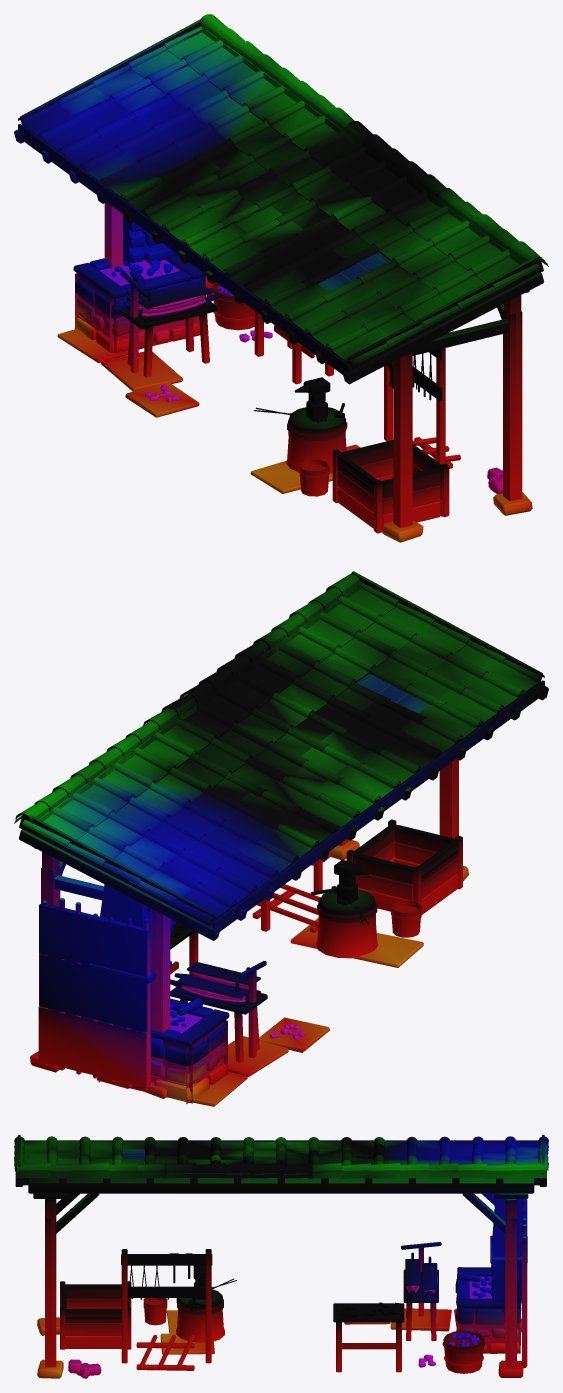
File: valdora_forge.glb
The picture shows the model from 3 angles, top to bottom: view 1: azimuth 30°, elevation 25°; view 2: azimuth 150°, elevation 25°; view 3: azimuth 270°, elevation 25°; orthographic projection. The views are drawn at different scales.
Parts seen in each view (by area): view 1: valdora_forge_shell, Fixture_Hearth, Fixture_QuenchTrough, valdora_forge_far, Fixture_Bellows, Fixture_Anvil, Fixture_Stock, Fixture_ToolRack, Fixture_Workbench, valdora_forge_detail; view 2: valdora_forge_shell, Fixture_Hearth, Fixture_QuenchTrough, Fixture_Anvil, Fixture_Bellows, valdora_forge_far, Fixture_Stock, valdora_forge_detail, Fixture_Workbench; view 3: valdora_forge_shell, Fixture_Hearth, Fixture_QuenchTrough, Fixture_Stock, Fixture_ToolRack, valdora_forge_far, Fixture_Workbench, Fixture_Bellows, Fixture_Anvil, valdora_forge_detail.
Part boxes in pixels (x1,y1,x2,y2): valdora_forge_shell: [14, 14, 548, 542]; Fixture_Hearth: [73, 214, 206, 353]; Fixture_QuenchTrough: [332, 440, 449, 533]; valdora_forge_far: [104, 203, 522, 527]; Fixture_Bellows: [119, 271, 220, 377]; Fixture_Anvil: [286, 377, 347, 473]; Fixture_Stock: [211, 282, 502, 496]; Fixture_ToolRack: [384, 348, 445, 464]; Fixture_Workbench: [254, 311, 333, 384]; valdora_forge_detail: [145, 384, 373, 519]; valdora_forge_shell: [14, 571, 548, 1106]; Fixture_Hearth: [88, 884, 229, 1103]; Fixture_QuenchTrough: [346, 819, 462, 917]; Fixture_Anvil: [310, 859, 378, 958]; Fixture_Bellows: [170, 961, 267, 1062]; valdora_forge_far: [41, 675, 458, 1082]; Fixture_Stock: [252, 850, 421, 937]; valdora_forge_detail: [170, 849, 458, 1039]; Fixture_Workbench: [170, 921, 198, 974]; valdora_forge_shell: [14, 1135, 548, 1378]; Fixture_Hearth: [455, 1199, 527, 1353]; Fixture_QuenchTrough: [60, 1281, 131, 1349]; Fixture_Stock: [68, 1298, 485, 1378]; Fixture_ToolRack: [121, 1249, 212, 1363]; valdora_forge_far: [23, 1155, 539, 1367]; Fixture_Workbench: [333, 1302, 404, 1372]; Fixture_Bellows: [401, 1242, 441, 1340]; Fixture_Anvil: [176, 1265, 224, 1342]; valdora_forge_detail: [65, 1278, 372, 1341].
Size of the model in its own units: 2.6 by 3.15 by 7.15.
